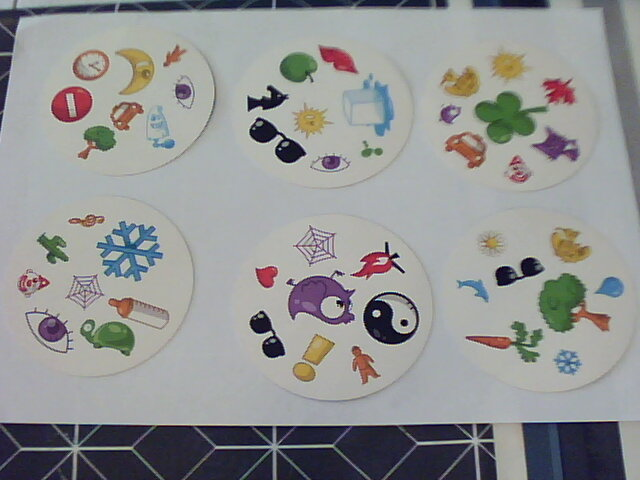arbre: (536, 271, 612, 334), (76, 124, 118, 162)
biberon: (107, 294, 172, 333)
bonhomme: (349, 345, 383, 386), (162, 43, 189, 69)
bouche: (317, 40, 362, 76)
cactus: (36, 231, 71, 266)
carotte: (463, 320, 545, 366)
chat: (530, 125, 585, 166)
cheval: (245, 84, 293, 114)
chien: (549, 222, 594, 265), (438, 61, 482, 99)
clown: (16, 267, 51, 299), (502, 152, 535, 185)
coeur: (253, 264, 280, 289)
dauphin: (454, 276, 491, 304)
fantome: (146, 103, 177, 151)
feu: (349, 240, 406, 283)
feuille: (540, 73, 578, 107)
fleur: (475, 229, 510, 257)
flocon: (95, 219, 166, 284), (551, 346, 583, 377)
glacon: (341, 73, 396, 137)
goutte: (594, 275, 626, 299)
horloge: (70, 48, 111, 83)
lune: (114, 45, 156, 96)
lunette: (247, 116, 309, 165), (248, 309, 288, 361), (493, 256, 546, 288)
note: (67, 211, 106, 230)
oeuil: (24, 306, 76, 357), (306, 151, 353, 174), (171, 72, 196, 110)
oiseau: (285, 269, 357, 328), (435, 101, 466, 126)
point_exclamation: (290, 333, 337, 385)
pomme: (278, 51, 319, 86)
sens_interdit: (49, 85, 94, 124)
soleil: (486, 44, 534, 85), (290, 100, 336, 139)
tache: (358, 138, 387, 160)
toile: (291, 223, 339, 267), (64, 273, 105, 310)
tortue: (79, 317, 137, 359)
trefle: (475, 90, 549, 145)
voiture: (441, 130, 488, 171), (109, 100, 145, 132)
ying_yang: (362, 290, 420, 346)
